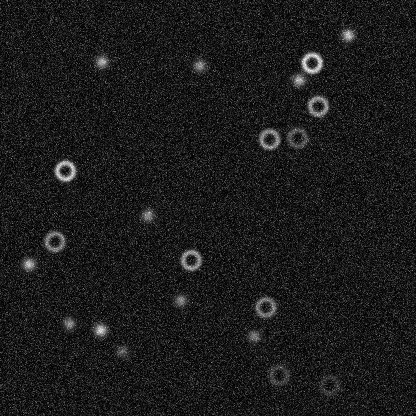Ring: (285, 125, 309, 149), (178, 247, 202, 271), (299, 50, 323, 74), (317, 373, 341, 397), (257, 126, 281, 150), (42, 229, 66, 253), (305, 93, 329, 117), (266, 363, 290, 387), (53, 158, 77, 182), (253, 295, 277, 319)
Spot: (139, 207, 155, 223), (245, 327, 261, 343), (92, 321, 108, 337), (60, 315, 76, 331), (20, 256, 36, 272), (191, 57, 207, 73), (93, 53, 109, 69), (290, 71, 306, 87), (113, 343, 129, 359), (172, 292, 188, 308), (339, 27, 355, 43)
